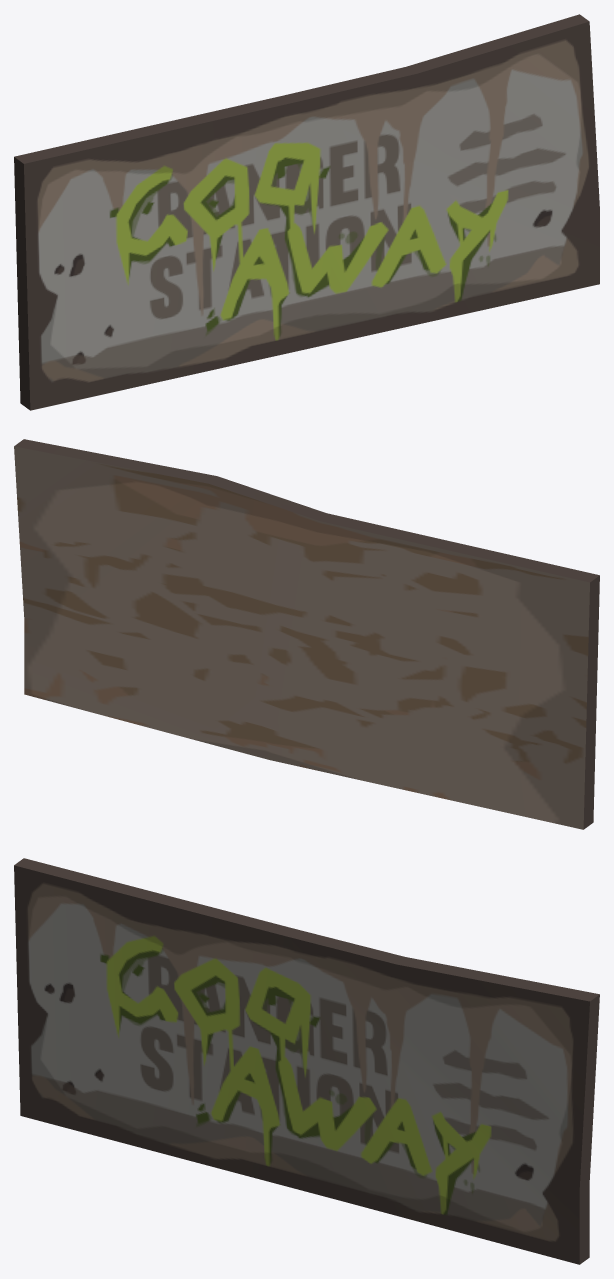
The model's file is SM_Prop_Sign_Custom_11.fbx.
The picture shows the model from 3 angles, top to bottom: view 1: azimuth 30°, elevation 25°; view 2: azimuth 150°, elevation 25°; view 3: azimuth 330°, elevation 25°; orthographic projection.
Visible parts, largest first — view 1: SM_Prop_Sign_Custom_11; view 2: SM_Prop_Sign_Custom_11; view 3: SM_Prop_Sign_Custom_11.
Part boxes in pixels (<box>): SM_Prop_Sign_Custom_11: <box>14,14,599,410</box>; SM_Prop_Sign_Custom_11: <box>14,439,599,829</box>; SM_Prop_Sign_Custom_11: <box>14,858,599,1264</box>.
Bounding box in the file's own units: 209 × 89.52 × 12.88.
